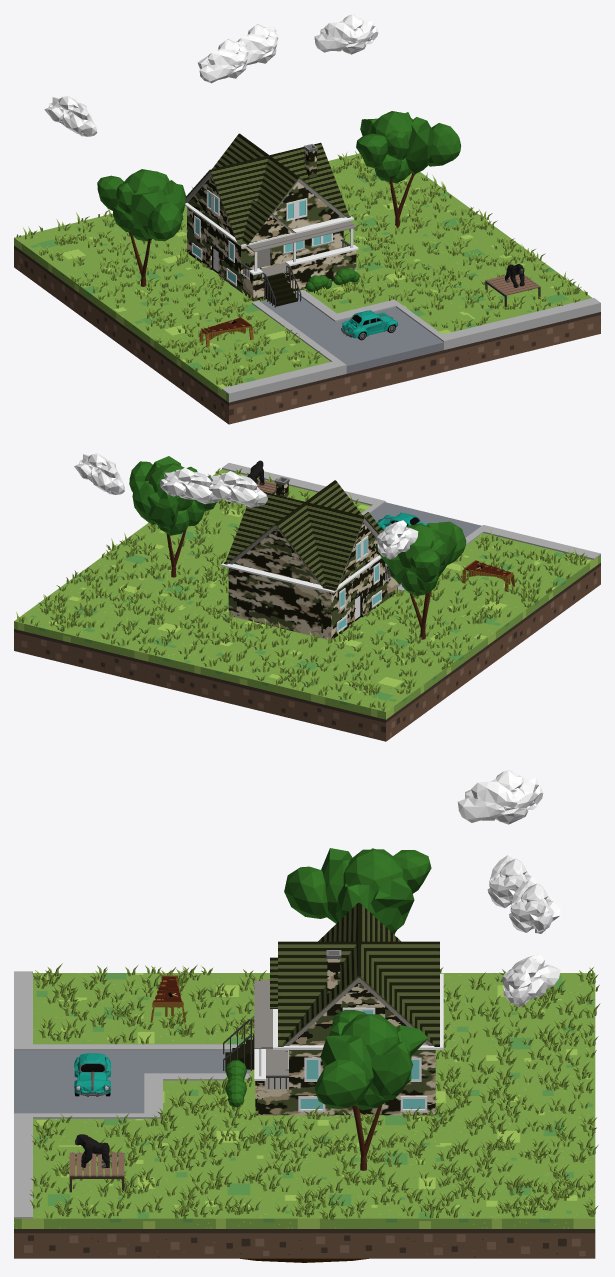
The picture shows the model from 3 angles, top to bottom: view 1: azimuth 30°, elevation 25°; view 2: azimuth 150°, elevation 25°; view 3: azimuth 270°, elevation 25°; orthographic projection. The views are drawn at different scales.
Visible parts, largest first — view 1: Cube.006, Cube.001, Circle.012_Grass_0.192, Cube.007, tree, tree.001, VEHICLES_VOLKSWAGEN, Cube.009, OBJRANDOM_MARIMBA; view 2: Cube.006, Cube.001, Circle.012_Grass_0.192, Cube.007, tree.001, tree, OBJRANDOM_MARIMBA, VEHICLES_VOLKSWAGEN; view 3: Cube.006, Circle.012_Grass_0.192, Cube.001, tree, Cube.007, tree.001, VEHICLES_VOLKSWAGEN, Cube.009, OBJRANDOM_MARIMBA, ANIMAL_GORILA.
Boxes of the visible parts, x1=… form: Cube.006: x1=14, y1=153, x2=600, y2=424; Cube.001: x1=185, y1=133, x2=358, y2=307; Circle.012_Grass_0.192: x1=16, y1=151, x2=587, y2=386; Cube.007: x1=44, y1=14, x2=378, y2=136; tree: x1=356, y1=111, x2=460, y2=228; tree.001: x1=97, y1=169, x2=186, y2=286; VEHICLES_VOLKSWAGEN: x1=341, y1=310, x2=398, y2=340; Cube.009: x1=485, y1=274, x2=540, y2=306; OBJRANDOM_MARIMBA: x1=199, y1=316, x2=253, y2=347; Cube.006: x1=14, y1=463, x2=600, y2=741; Cube.001: x1=221, y1=477, x2=397, y2=640; Circle.012_Grass_0.192: x1=16, y1=468, x2=587, y2=711; Cube.007: x1=74, y1=453, x2=418, y2=559; tree.001: x1=374, y1=521, x2=466, y2=639; tree: x1=129, y1=456, x2=216, y2=577; OBJRANDOM_MARIMBA: x1=462, y1=560, x2=514, y2=591; VEHICLES_VOLKSWAGEN: x1=377, y1=512, x2=426, y2=530; Cube.006: x1=14, y1=971, x2=595, y2=1258; Circle.012_Grass_0.192: x1=29, y1=963, x2=600, y2=1219; Cube.001: x1=223, y1=902, x2=443, y2=1115; tree: x1=314, y1=1010, x2=427, y2=1170; Cube.007: x1=457, y1=770, x2=560, y2=1006; tree.001: x1=284, y1=848, x2=431, y2=934; VEHICLES_VOLKSWAGEN: x1=74, y1=1053, x2=110, y2=1096; Cube.009: x1=69, y1=1152, x2=124, y2=1192; OBJRANDOM_MARIMBA: x1=150, y1=975, x2=185, y2=1022; ANIMAL_GORILA: x1=75, y1=1134, x2=109, y2=1168.
Bounding box in the file's own units: 4071 × 2242 × 4040.
Materials: 37 (5 with a texture image).
